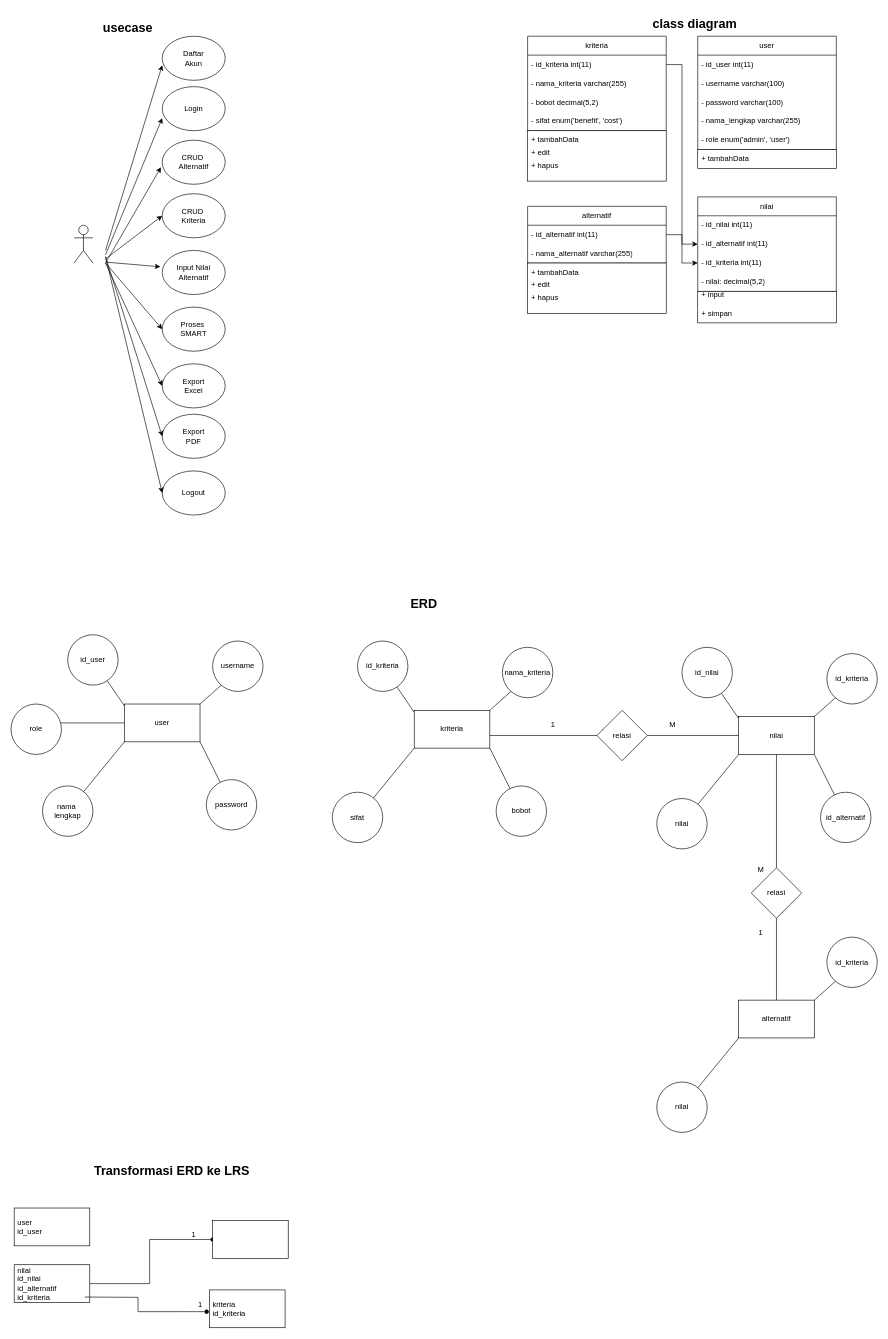
The diagram is 888 pixels wide and 1339 high, and some of its shapes have lost their labels. Each missing label, with the centre of its shape:
alternatif id_alternatif: pixel 250 1239
Buyer: pixel 83 244
